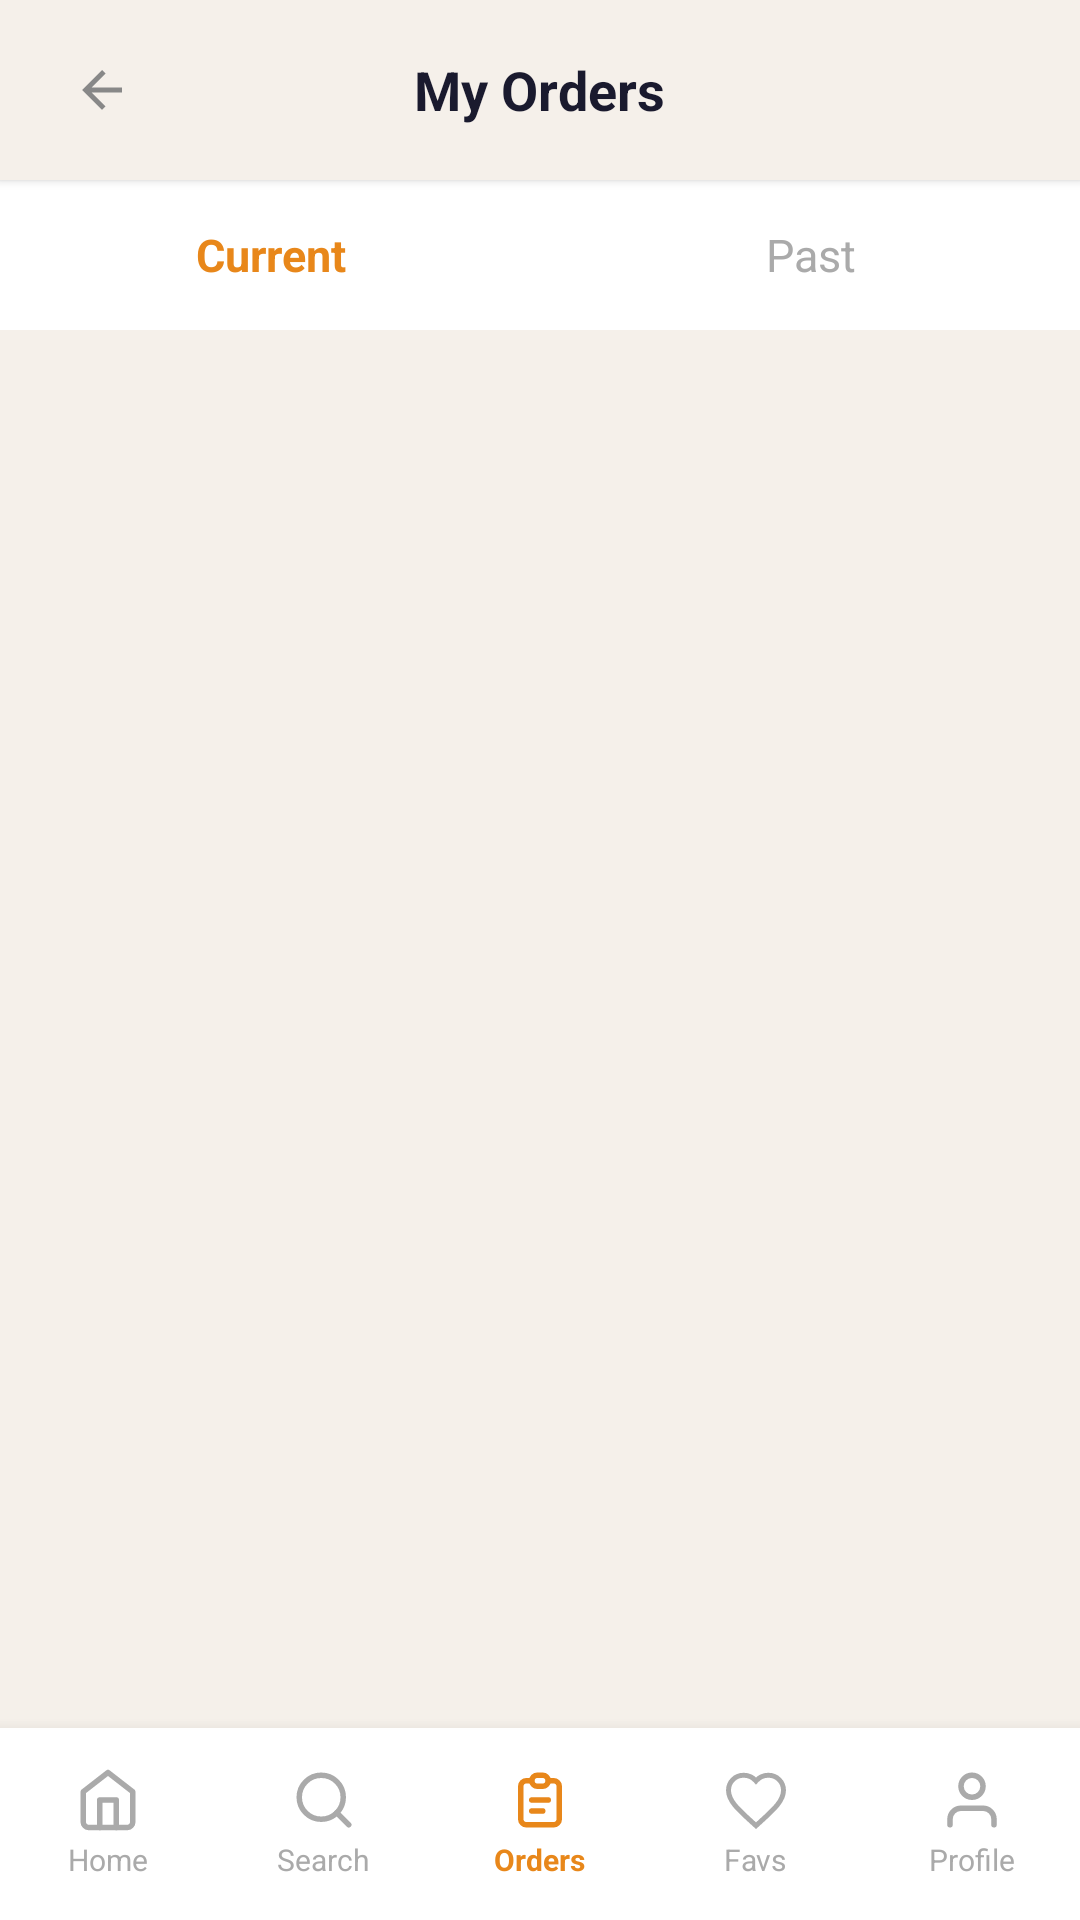

Screen size 1080px x 1920px. Icon name, then its center in pixels as [x,y]:
Back: [102,90]
